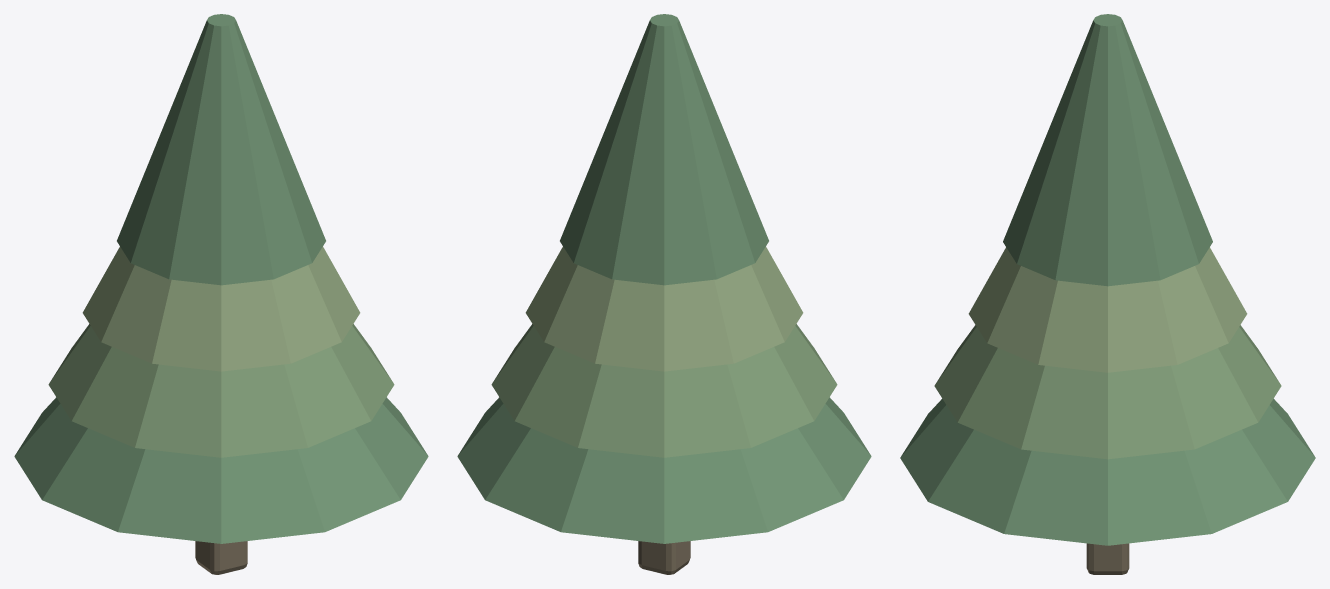
Rendered from tree-pine-high.glb.
3 renders of one model, left to right at view 1: azimuth 30°, elevation 25°; view 2: azimuth 150°, elevation 25°; view 3: azimuth 270°, elevation 25°, orthographic.
Visible parts, largest first — view 1: core-Foliage 0-surfaces, core-Foliage 1-surfaces, core-Foliage 2-surfaces, core-Weathered bark-surfaces; view 2: core-Foliage 0-surfaces, core-Foliage 1-surfaces, core-Foliage 2-surfaces, core-Weathered bark-surfaces; view 3: core-Foliage 0-surfaces, core-Foliage 1-surfaces, core-Foliage 2-surfaces, core-Weathered bark-surfaces.
Boxes of the visible parts, bbox=[...] form: core-Foliage 0-surfaces: bbox=[14, 14, 428, 543]; core-Foliage 1-surfaces: bbox=[48, 324, 394, 457]; core-Foliage 2-surfaces: bbox=[82, 247, 360, 371]; core-Weathered bark-surfaces: bbox=[195, 541, 247, 574]; core-Foliage 0-surfaces: bbox=[457, 14, 871, 543]; core-Foliage 1-surfaces: bbox=[491, 324, 837, 457]; core-Foliage 2-surfaces: bbox=[525, 247, 803, 371]; core-Weathered bark-surfaces: bbox=[638, 541, 690, 574]; core-Foliage 0-surfaces: bbox=[900, 14, 1315, 545]; core-Foliage 1-surfaces: bbox=[934, 325, 1281, 459]; core-Foliage 2-surfaces: bbox=[968, 247, 1247, 372]; core-Weathered bark-surfaces: bbox=[1086, 543, 1129, 574].
Size of the model in its own units: 3.4 by 4.95 by 3.4.
